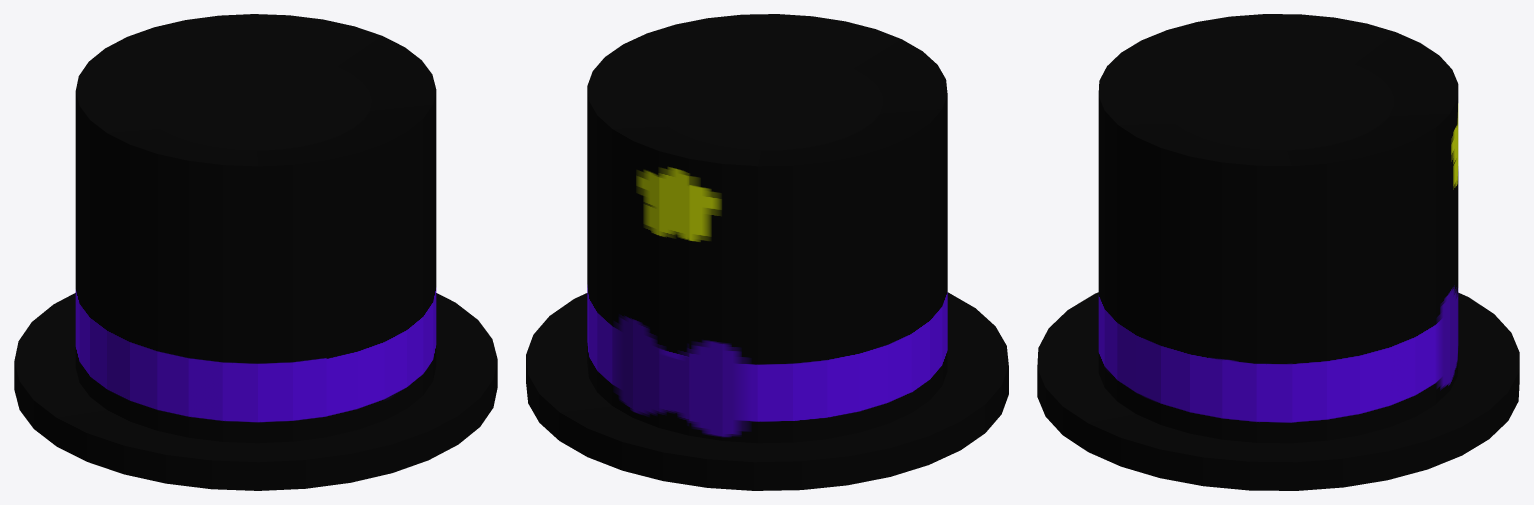
The model's file is hat.fbx.
The picture shows the model from 3 angles, left to right: view 1: azimuth 30°, elevation 25°; view 2: azimuth 150°, elevation 25°; view 3: azimuth 270°, elevation 25°; orthographic projection.
Parts seen in each view (by area): view 1: Hat; view 2: Hat; view 3: Hat.
Boxes of the visible parts, left/top/right/bottom form: Hat: left=14, top=14, right=497, bottom=490; Hat: left=526, top=14, right=1008, bottom=490; Hat: left=1037, top=14, right=1519, bottom=490.
Size of the model in its own units: 30.77 by 21.05 by 30.77.
Materials: 1 (1 with a texture image).
